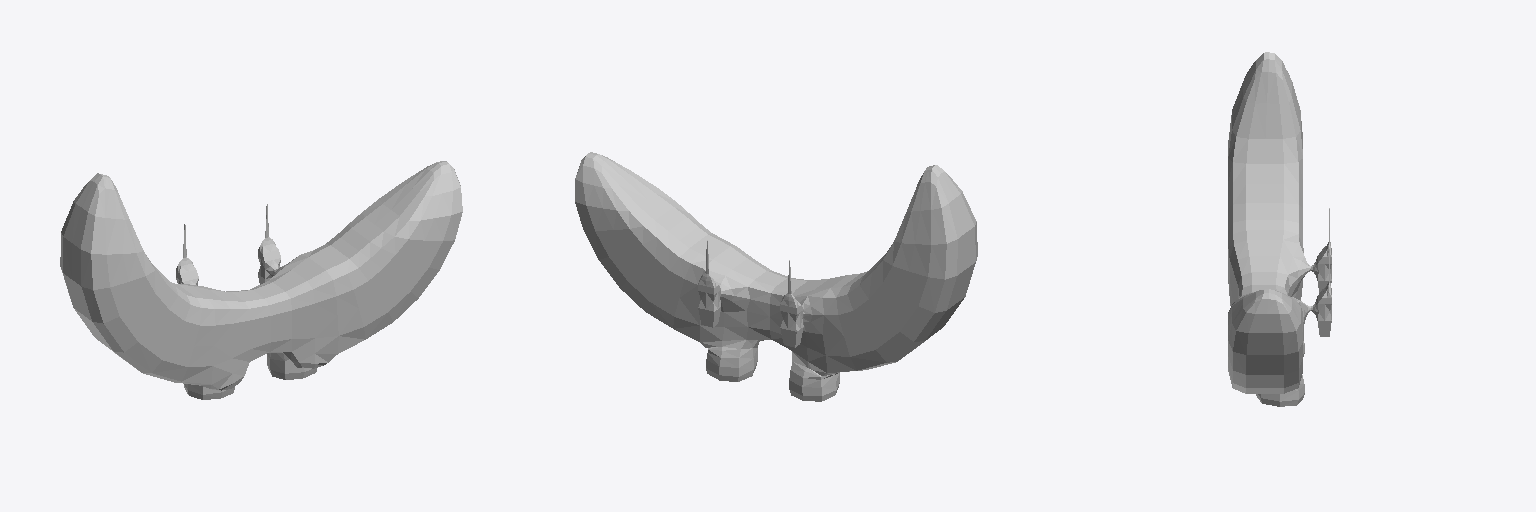
Rendered from drone_export.obj.
3 views of the same model, side by side, from view 1: azimuth 30°, elevation 25°; view 2: azimuth 150°, elevation 25°; view 3: azimuth 270°, elevation 25° (orthographic).
Visible parts, largest first — view 1: Cube; view 2: Cube; view 3: Cube.
Part boxes in pixels (bbox=[...]): Cube: bbox=[60, 161, 462, 399]; Cube: bbox=[575, 152, 977, 401]; Cube: bbox=[1228, 52, 1331, 406].
Bounding box in the file's own units: 0.9333 × 0.584 × 0.2189.